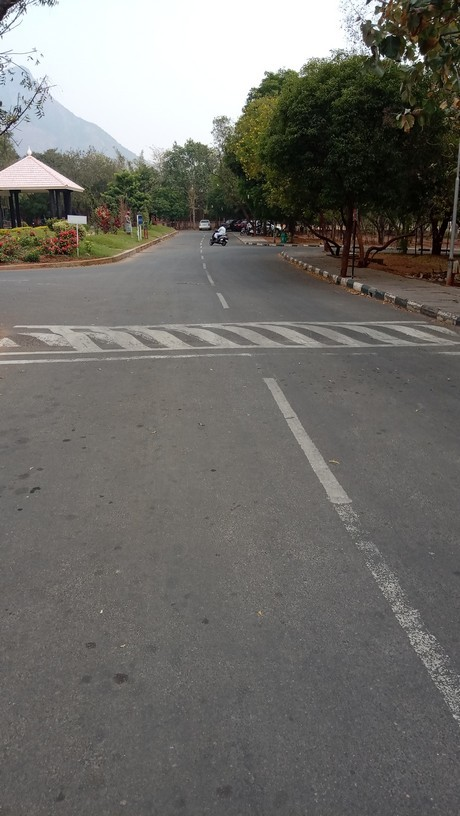bump: (1, 322, 459, 352)
